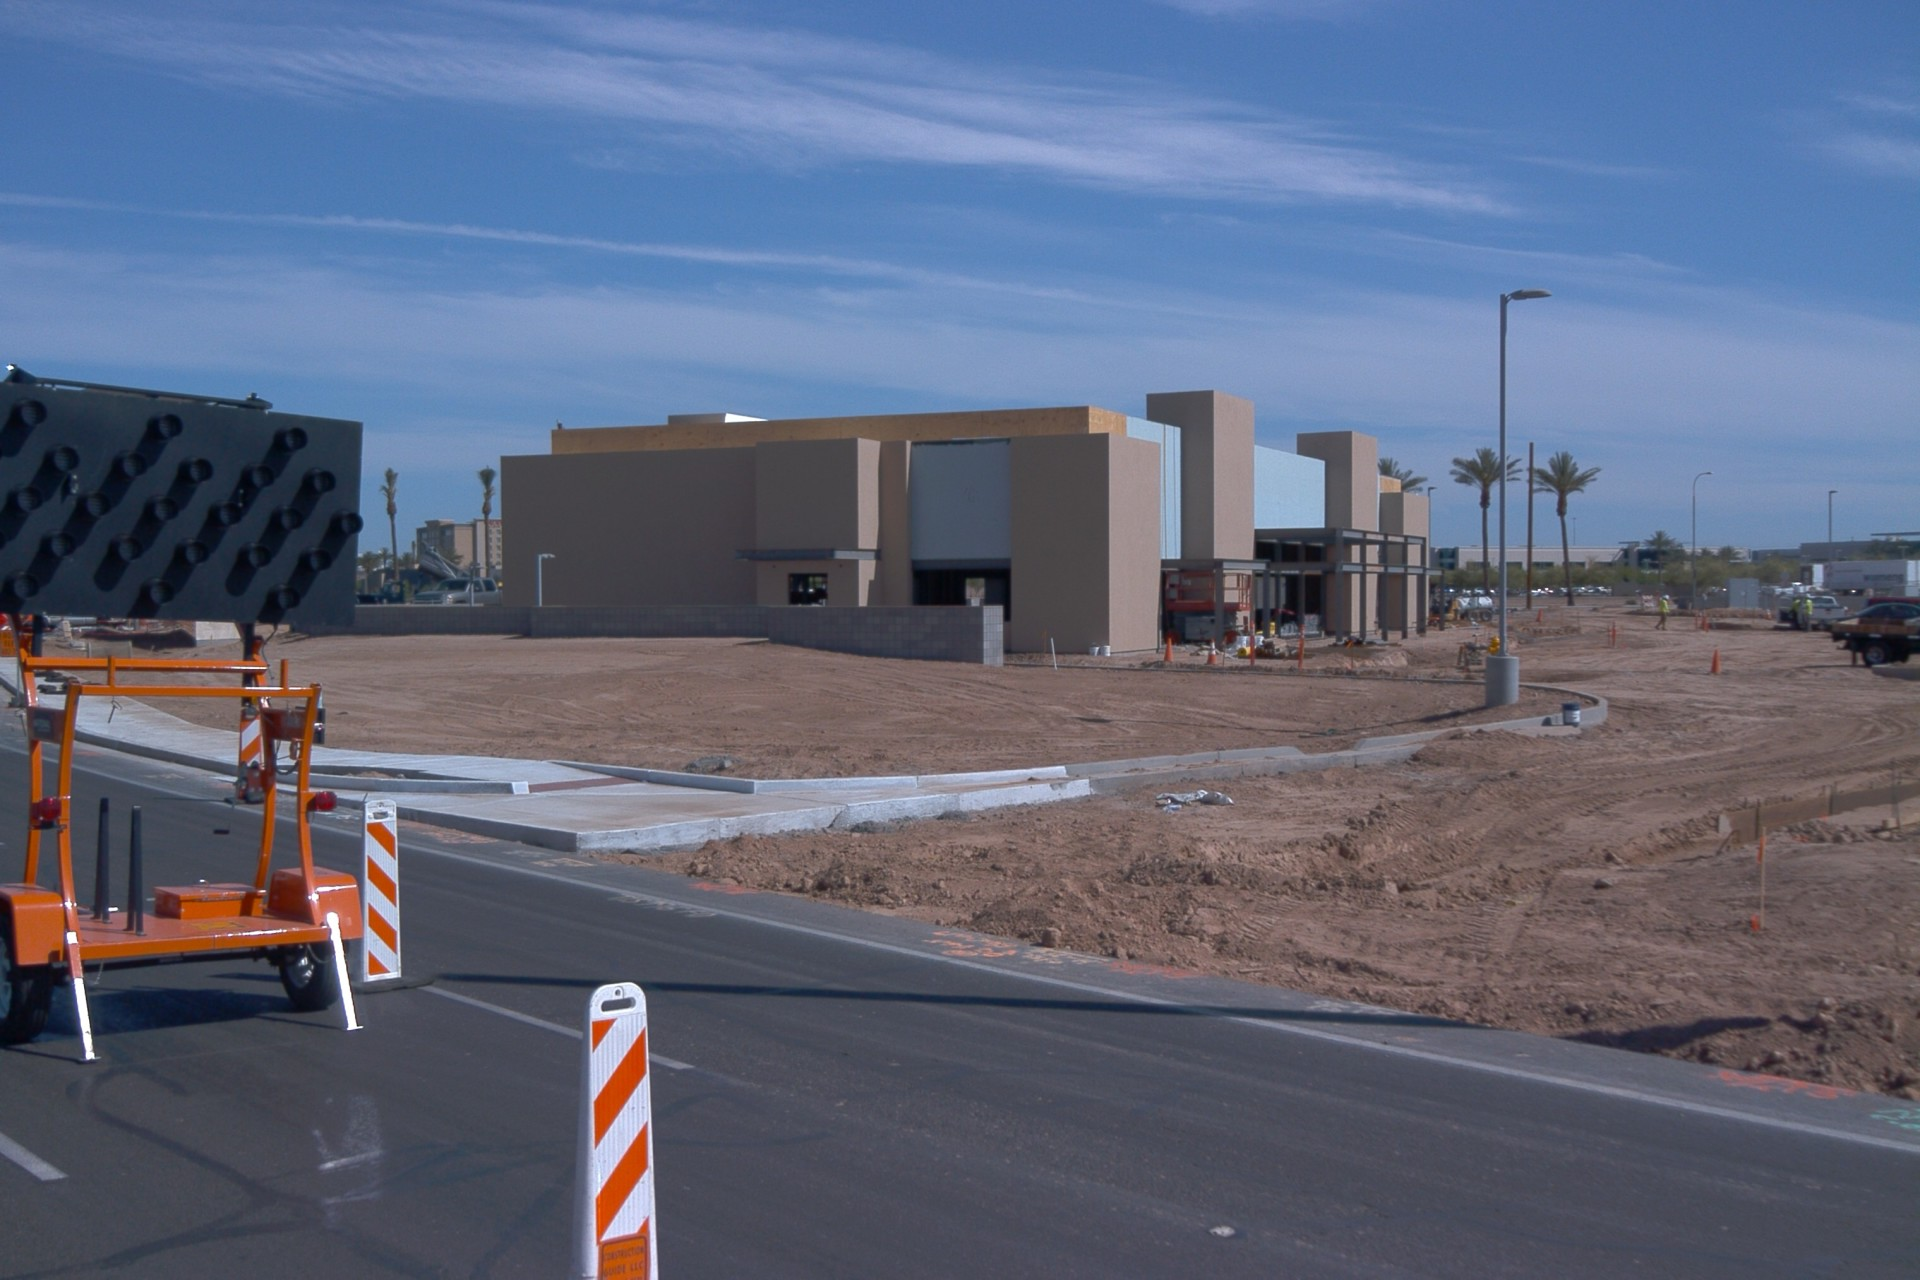TYPE_PEDESTRIAN: (1654, 592, 1678, 633), (1800, 593, 1815, 633), (1784, 596, 1803, 623)
TYPE_VEHICLE: (0, 361, 366, 1064), (375, 544, 479, 609), (1822, 605, 1920, 670), (411, 572, 500, 612), (1452, 589, 1519, 626), (1791, 594, 1848, 630), (38, 602, 95, 625), (1864, 593, 1920, 606), (353, 591, 386, 608), (1474, 586, 1496, 597), (1461, 587, 1474, 599)
